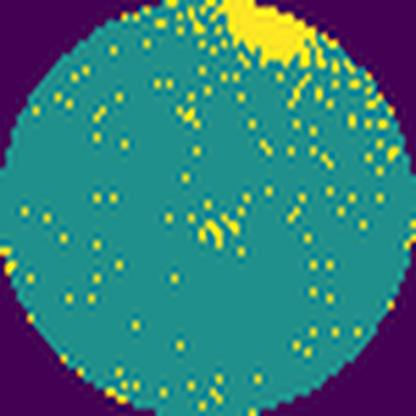Edge-Loc: (211, 0, 335, 73)
